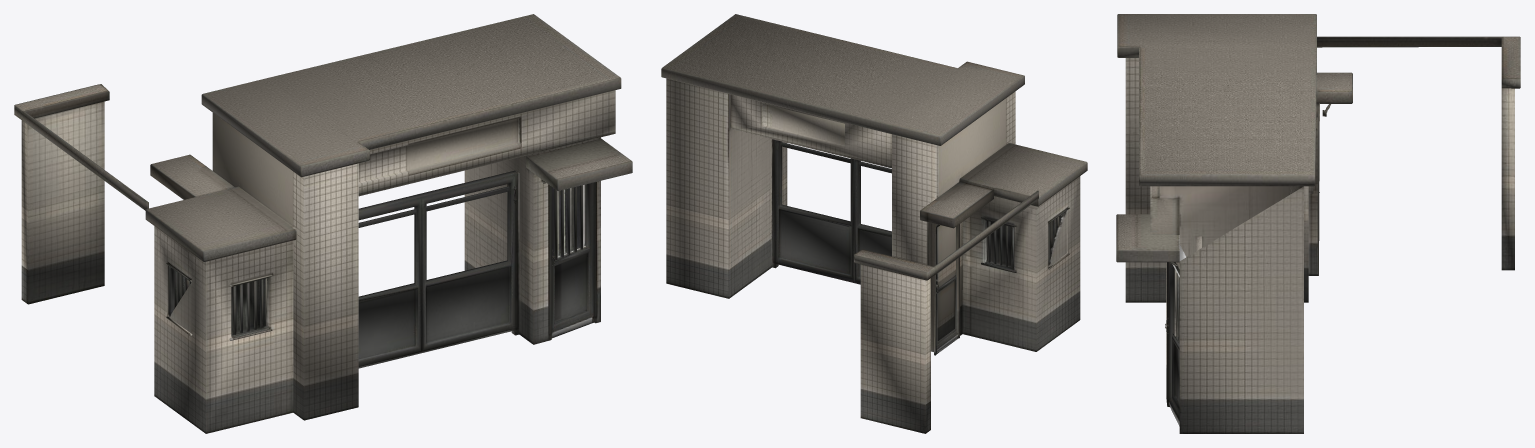
The model's file is facade-warehouse.glb.
The picture shows the model from 3 angles, left to right: view 1: azimuth 30°, elevation 25°; view 2: azimuth 150°, elevation 25°; view 3: azimuth 270°, elevation 25°; orthographic projection. The views are drawn at different scales.
Parts seen in each view (by area): view 1: tripo_node_5625fbc7-6b85-48a4-96c7-9fa6d0eed278; view 2: tripo_node_5625fbc7-6b85-48a4-96c7-9fa6d0eed278; view 3: tripo_node_5625fbc7-6b85-48a4-96c7-9fa6d0eed278.
Boxes of the visible parts, x1=… form: tripo_node_5625fbc7-6b85-48a4-96c7-9fa6d0eed278: x1=14, y1=14, x2=632, y2=433; tripo_node_5625fbc7-6b85-48a4-96c7-9fa6d0eed278: x1=661, y1=14, x2=1087, y2=433; tripo_node_5625fbc7-6b85-48a4-96c7-9fa6d0eed278: x1=1116, y1=14, x2=1520, y2=433.
Size of the model in its own units: 0.998 by 0.5918 by 0.8379.
1 material, 1 textured.
